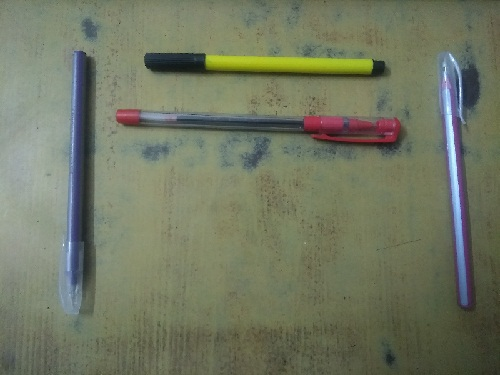pen: (111, 102, 405, 148), (432, 48, 480, 312), (62, 46, 93, 319), (134, 46, 388, 79)
